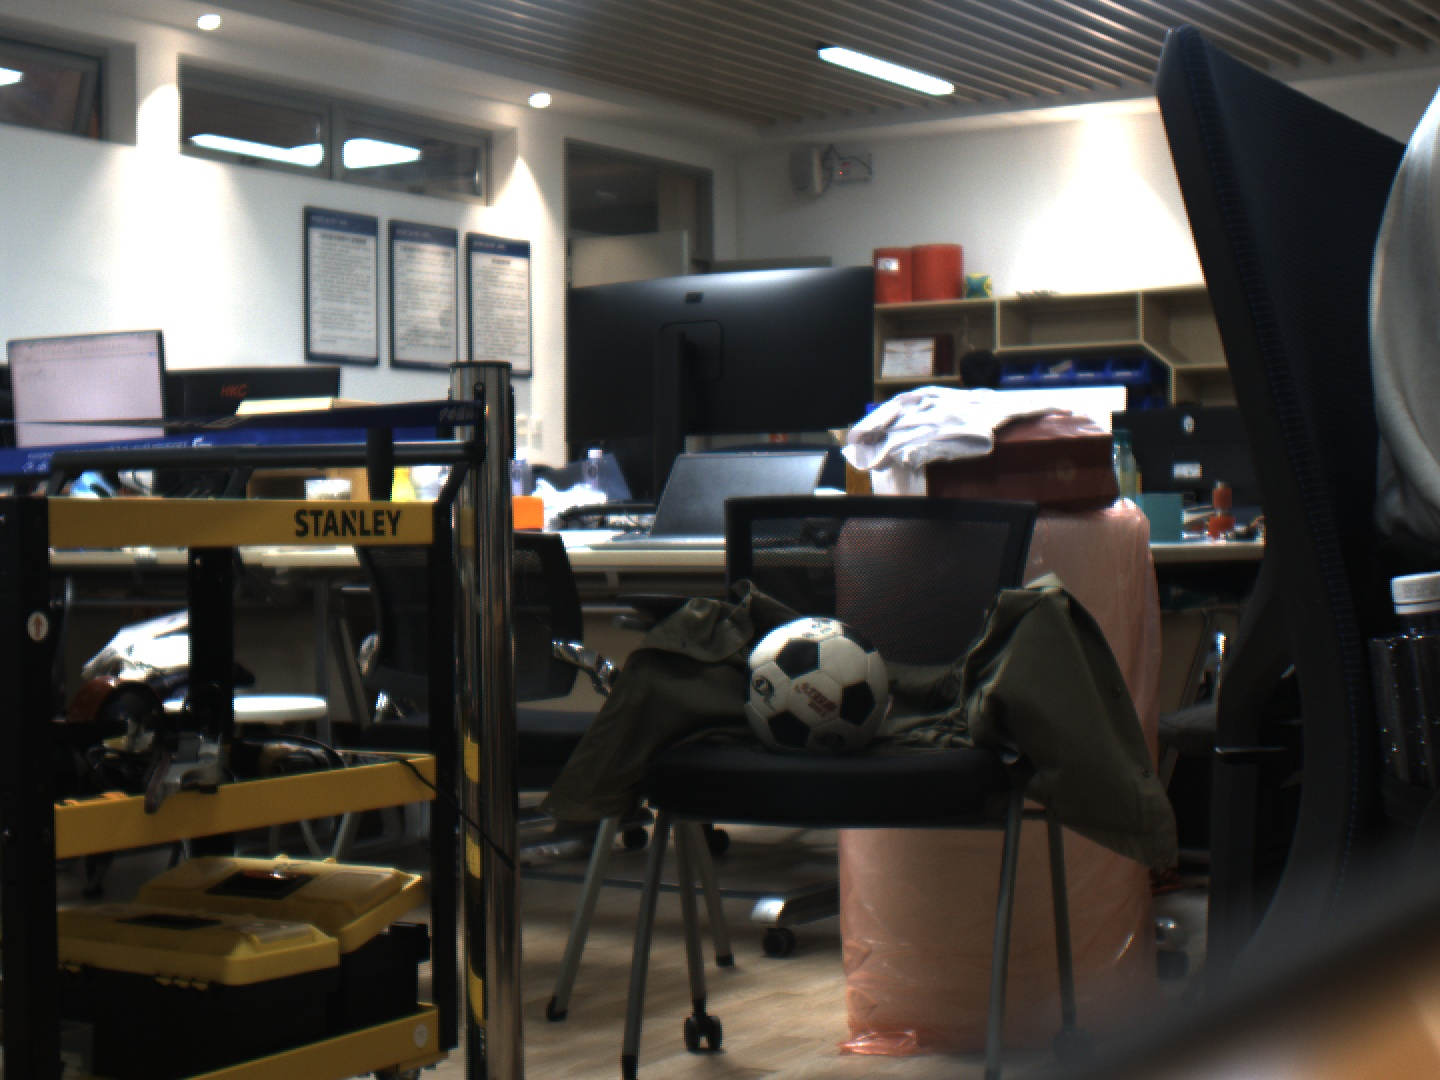ball: (220, 885, 401, 1068), (738, 615, 892, 756)
